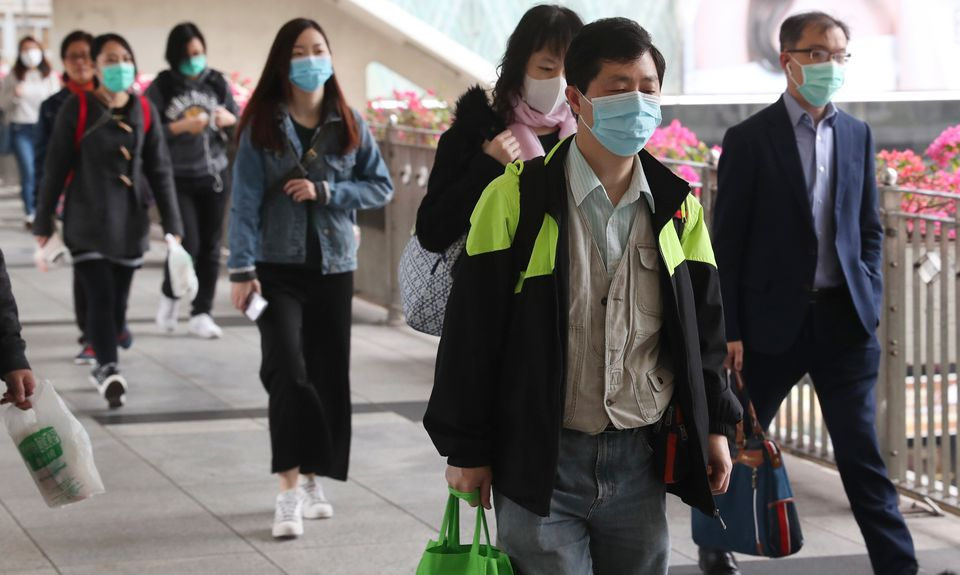with_mask: (586, 63, 662, 154), (794, 30, 848, 104), (524, 41, 575, 117), (285, 31, 332, 90), (96, 43, 135, 90), (175, 35, 208, 77), (20, 42, 42, 69)
without_mask: (63, 42, 93, 82)
